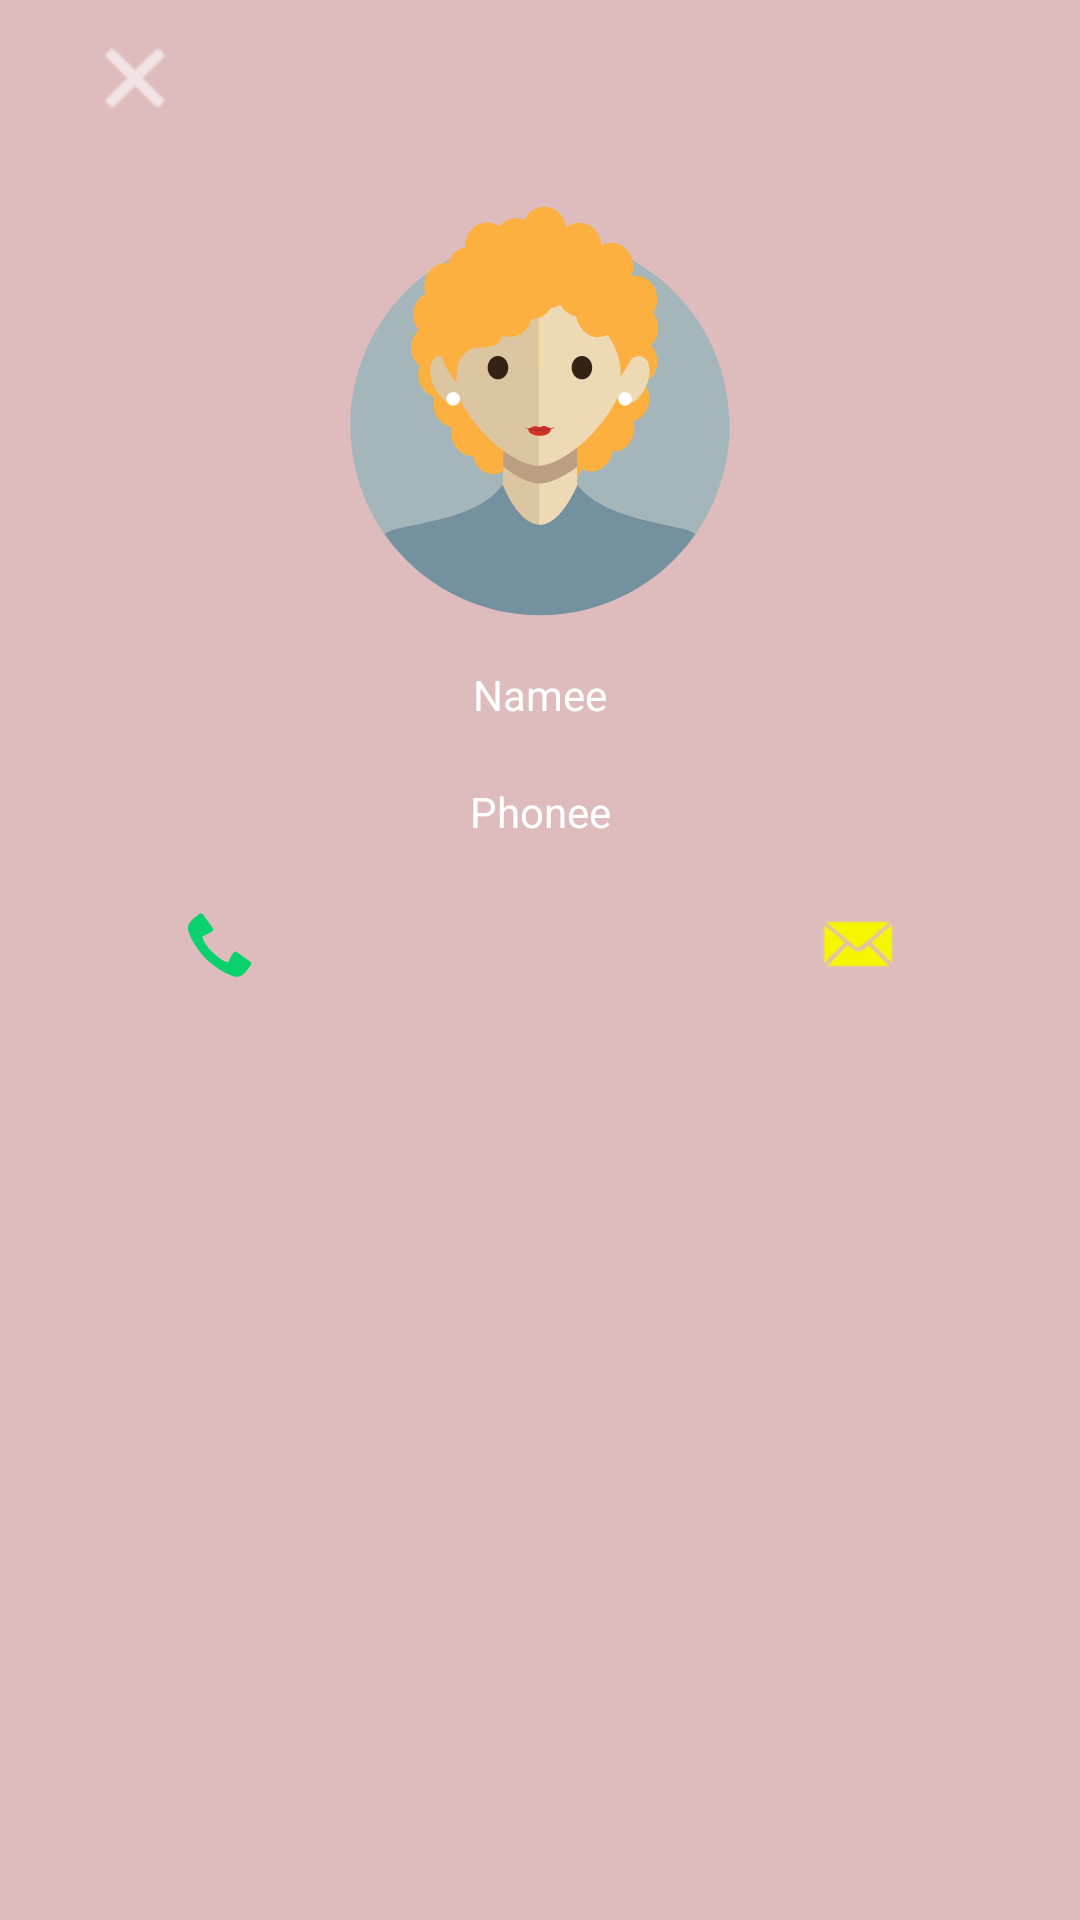

Screen size 1080x1920. Icon name, then its box in pixels as (x1, y1, x2, y2):
close clear cancel: (107, 50, 163, 106)
phone call: (188, 913, 252, 977)
sym action email: (823, 921, 893, 967)
